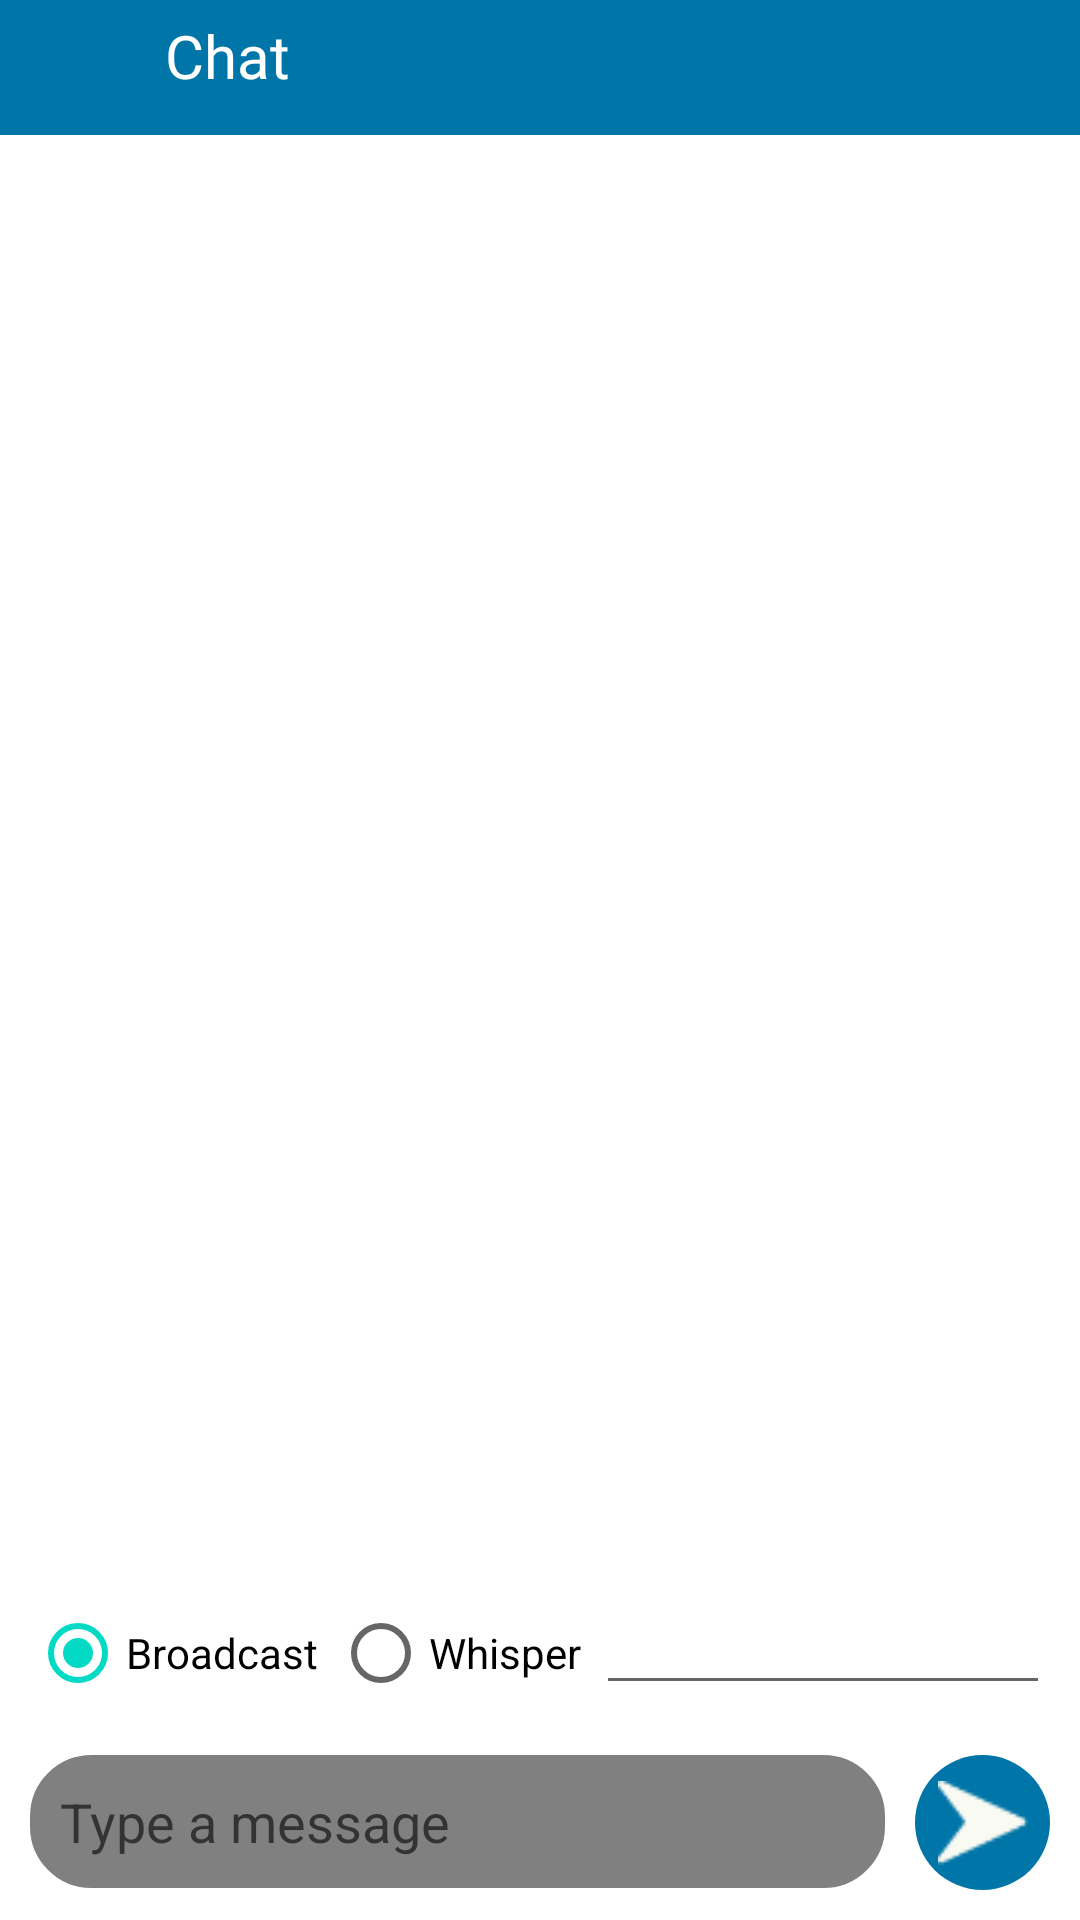

Point at icon controls on the screen. Image size 1080w x 1920h, points as (x=x, y=y).
send: (x=982, y=1822)
